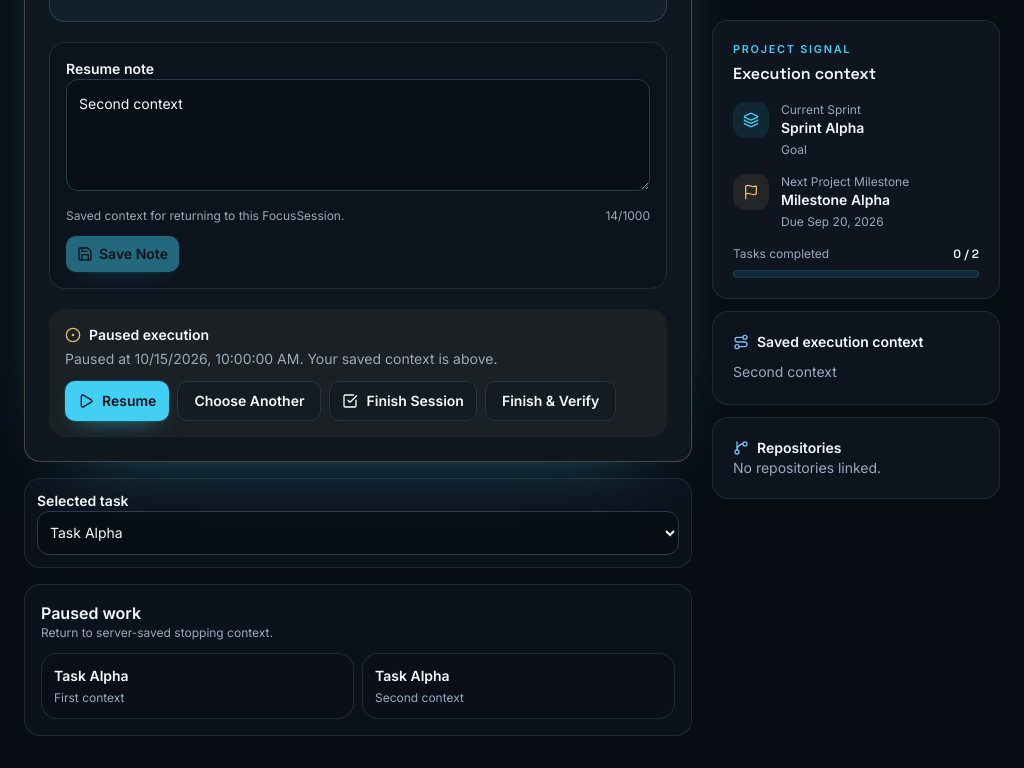
Test: Focus execution (mocked HTTP/jsdom, not a live backend/browser) › selects the exact paused session when one Task has several records
The image size is (1024, 768).
(page scrolled)
Expected: the text box labelled "Resume note" holds "Second context", 66,79 -> 650,191
Click the button "Resume" at (117, 401), box 65,381 -> 169,421
(page scrolled)
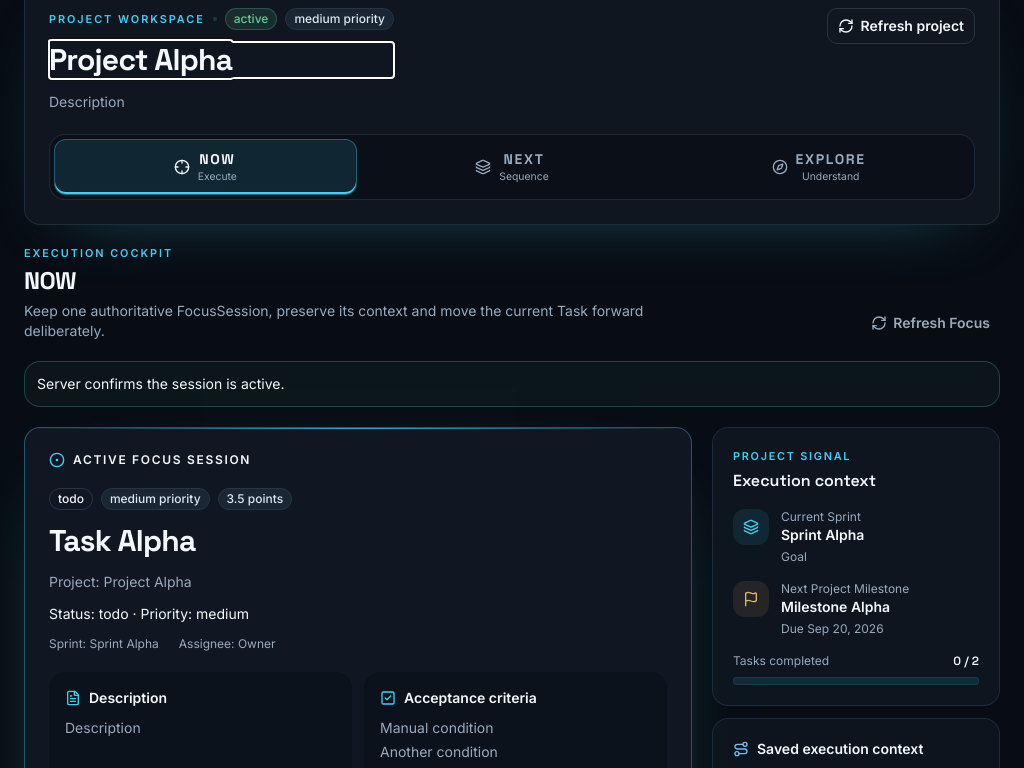
Result: the text "Server confirms the session is active." is shown at 24,361 -> 1000,407
